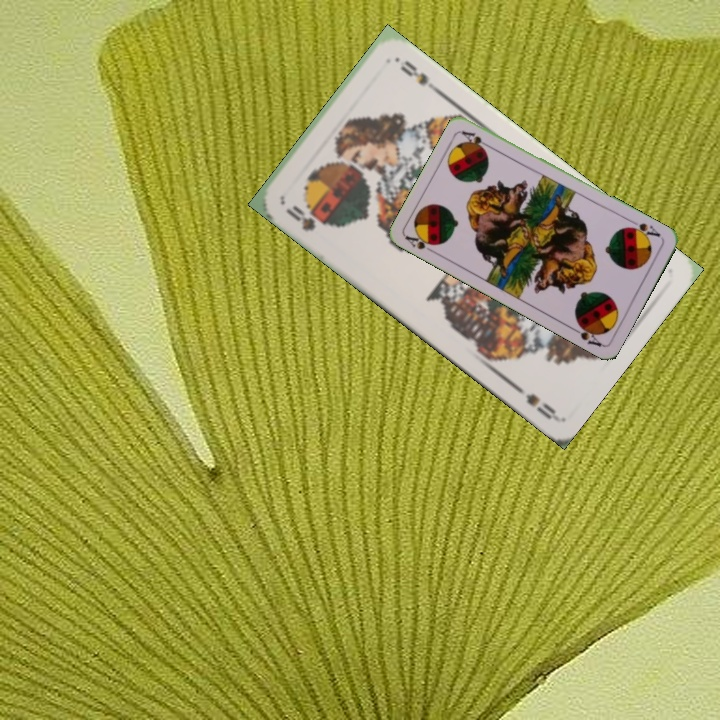SA: (401, 228, 441, 257), (623, 216, 663, 242)
SO: (281, 201, 330, 234)
